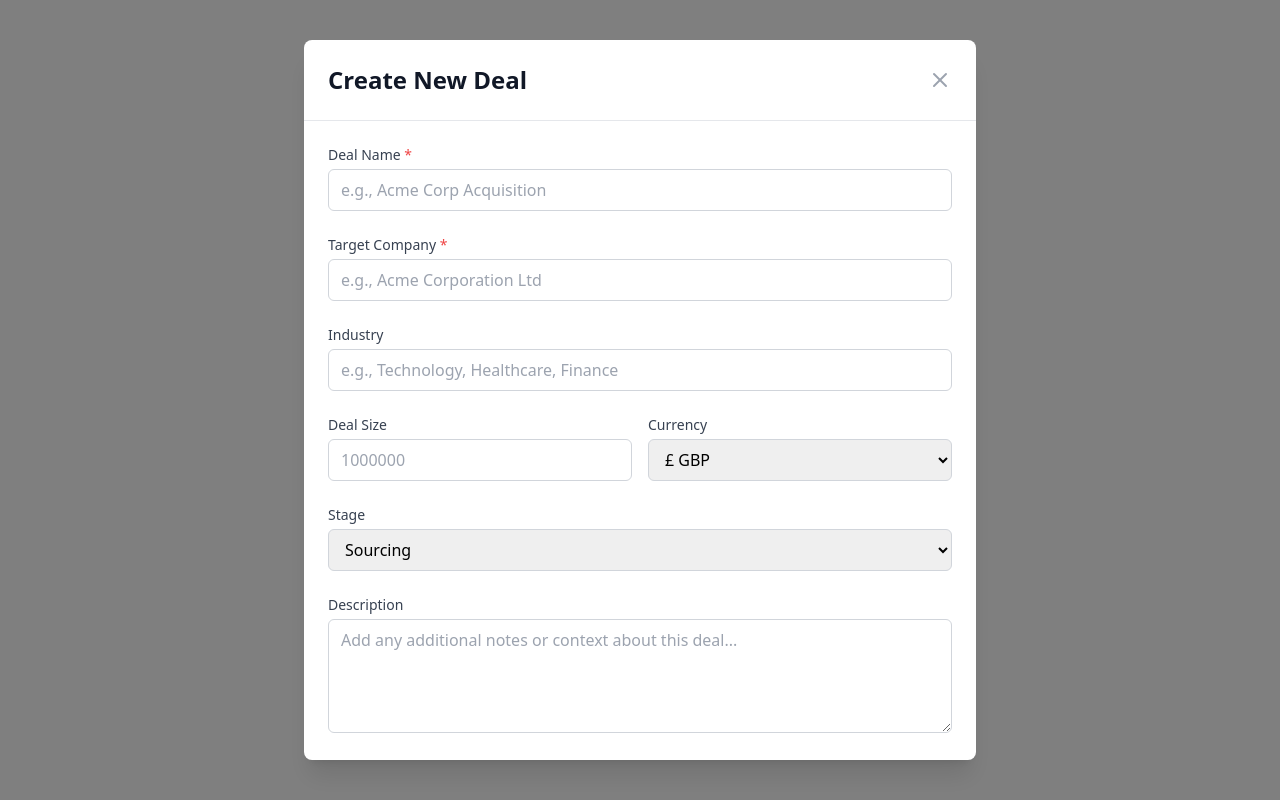
Test case: CreateDealModal › Form Validation › should show error for empty target company
This screenshot has width=1280, height=800.
Type "Test Deal" into the field labelled "Deal Name *" at (640, 190), box [328,169,952,211]
(page scrolled)
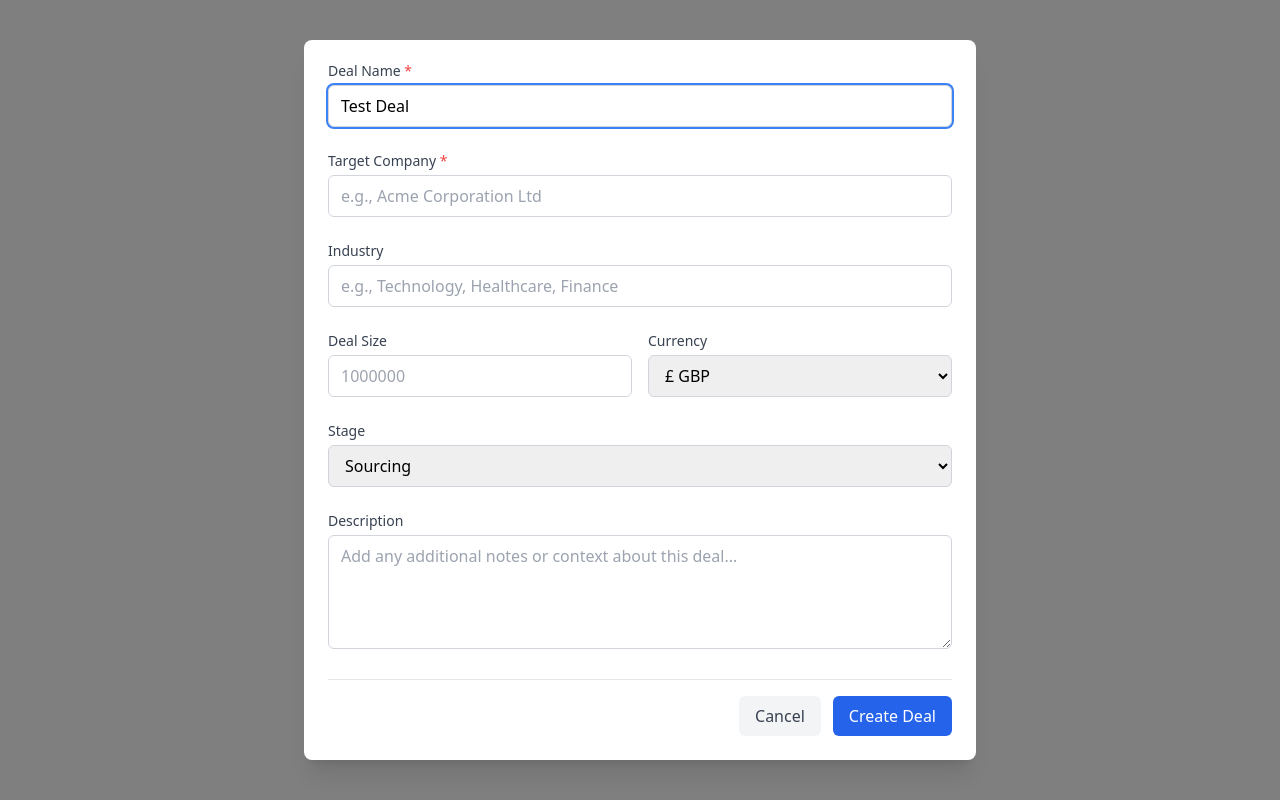
Click the button "Create Deal" at (892, 716), box [833,696,952,736]
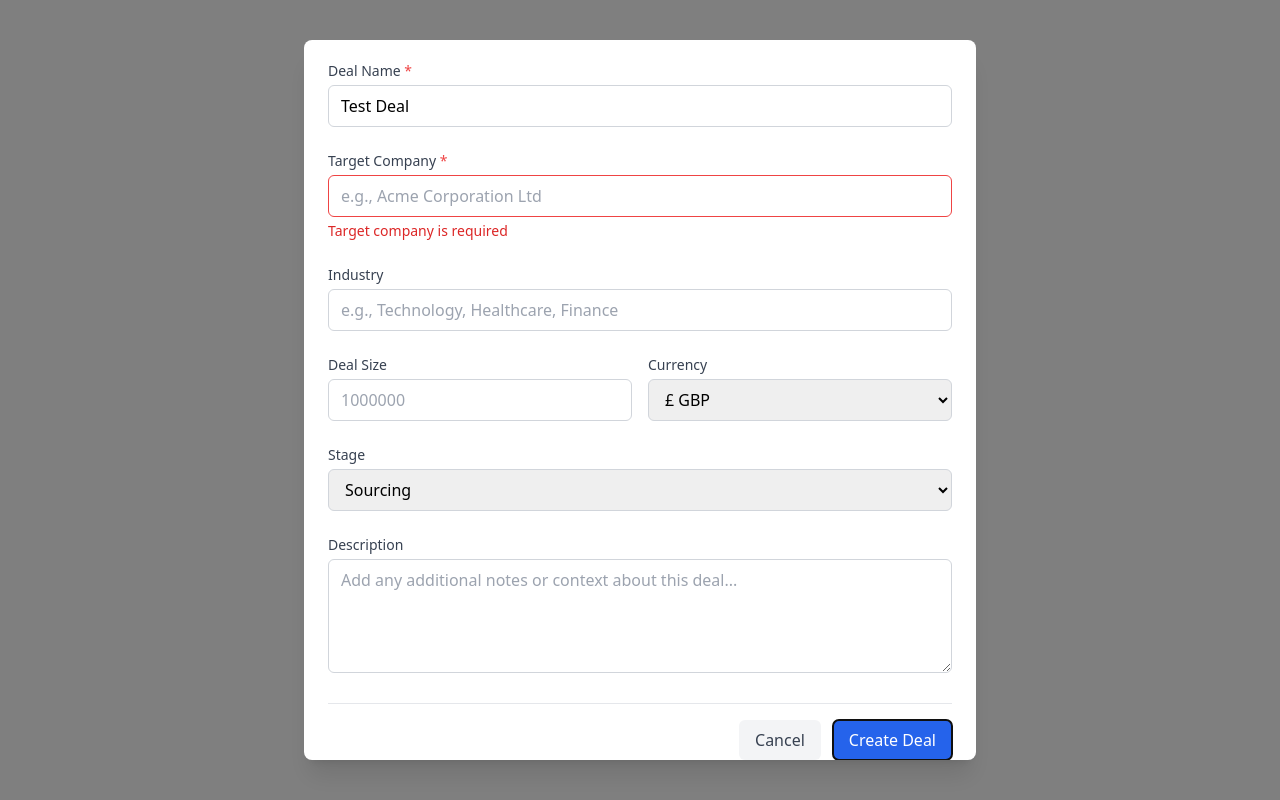
Expected: the text "Target company is required" is shown, [328,221,508,240]
